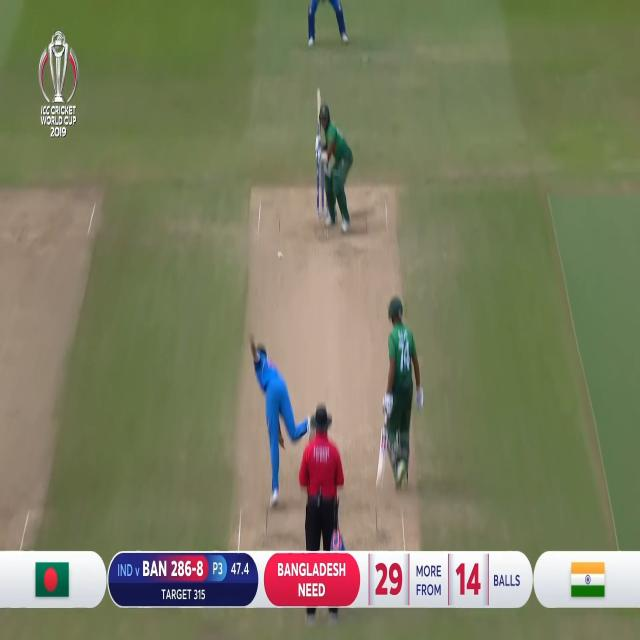ball: (276, 250, 284, 260)
stump: (316, 162, 328, 218)
